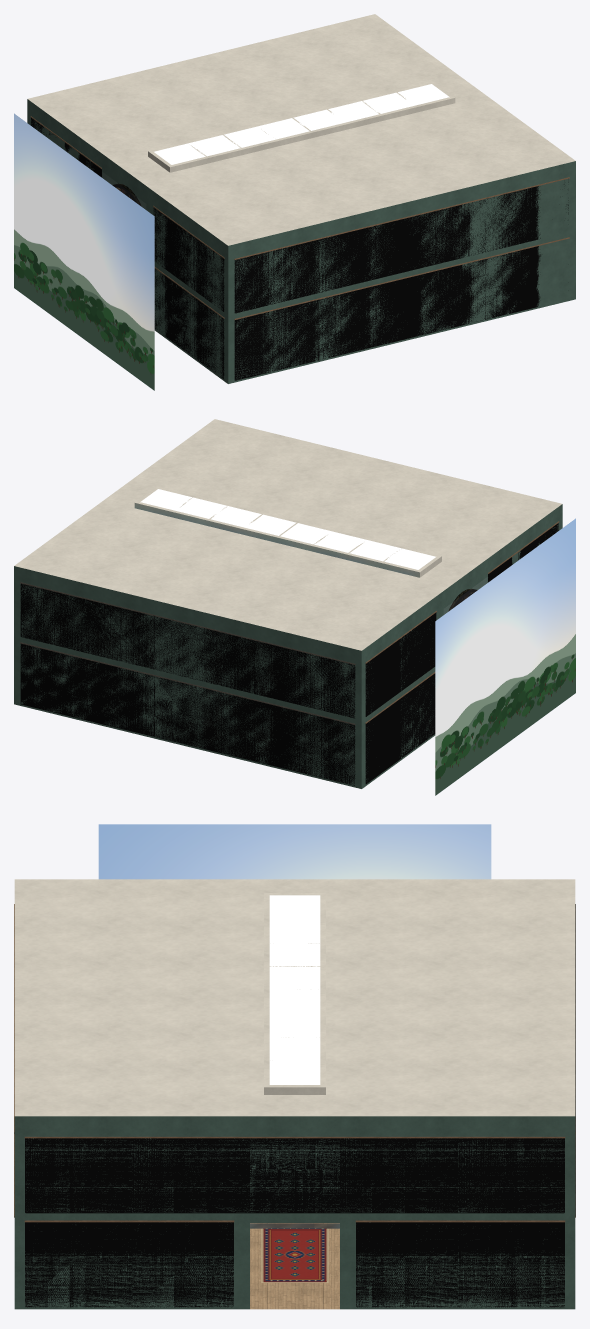
The model's file is lib_raw.gltf.
3 views of the same model, one above another, from view 1: azimuth 30°, elevation 25°; view 2: azimuth 150°, elevation 25°; view 3: azimuth 270°, elevation 25° (orthographic). The views are drawn at different scales.
Parts seen in each view (by area): view 1: ceiling, cases, walls, window_view, laylight, laylight_frame; view 2: ceiling, cases, walls, window_view, laylight, laylight_frame; view 3: ceiling, cases, walls, window_view, laylight, floor, rugs, laylight_frame.
Part boxes in pixels (bbox=[...]): ceiling: bbox=[28, 14, 575, 245]; cases: bbox=[30, 116, 569, 380]; walls: bbox=[27, 99, 575, 383]; window_view: bbox=[14, 113, 154, 390]; laylight: bbox=[154, 84, 449, 164]; laylight_frame: bbox=[148, 81, 455, 172]; ceiling: bbox=[14, 419, 561, 650]; cases: bbox=[20, 521, 559, 785]; walls: bbox=[14, 504, 562, 788]; window_view: bbox=[435, 518, 575, 795]; laylight: bbox=[140, 489, 435, 569]; laylight_frame: bbox=[134, 486, 441, 577]; ceiling: bbox=[14, 879, 575, 1116]; cases: bbox=[14, 904, 575, 1307]; walls: bbox=[14, 1116, 575, 1309]; window_view: bbox=[98, 824, 491, 879]; laylight: bbox=[269, 895, 320, 1084]; floor: bbox=[250, 1223, 339, 1309]; rugs: bbox=[261, 1228, 328, 1282]; laylight_frame: bbox=[264, 893, 325, 1094].
Size of the model in its own units: 22.95 by 9.6 by 20.04.
Materials: 17 (12 with a texture image).
